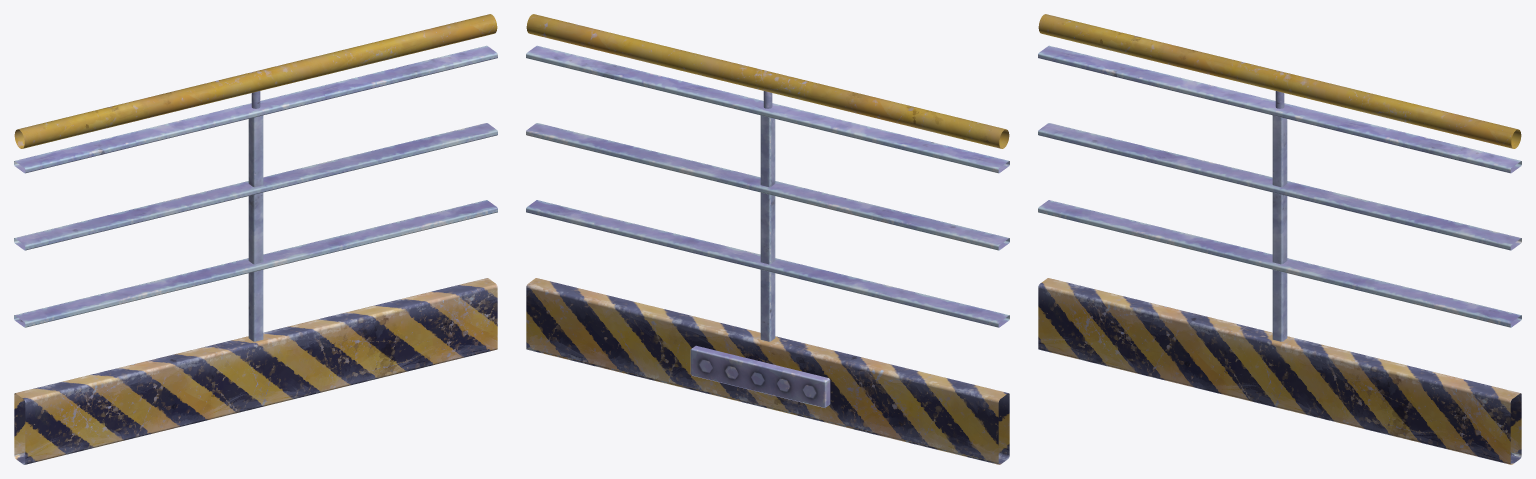
The model's file is SM_Rail_7m.fbx.
3 views of the same model, side by side, from view 1: azimuth 30°, elevation 25°; view 2: azimuth 150°, elevation 25°; view 3: azimuth 330°, elevation 25° (orthographic).
Visible parts, largest first — view 1: SM_Rail_5m; view 2: SM_Rail_5m; view 3: SM_Rail_5m.
Part boxes in pixels (x1,y1,x2,y2): SM_Rail_5m: (14,14,497,464); SM_Rail_5m: (526,14,1009,464); SM_Rail_5m: (1038,14,1521,464).
Bounding box in the file's own units: 500 × 336 × 29.12.
